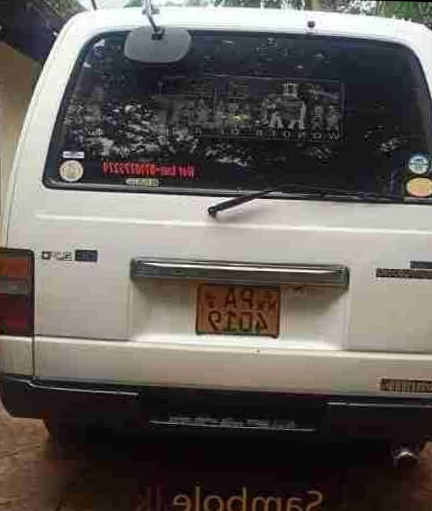van: (0, 6, 432, 460)
